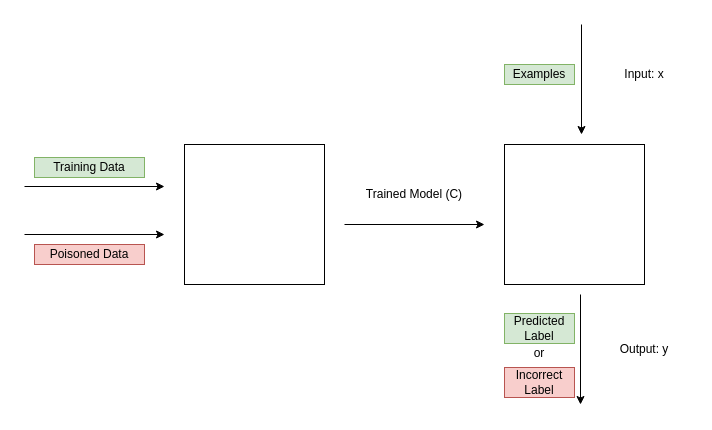
The diagram is 712 pixels wide and 430 high, and some of its shapes have lost their labels. The shapes that lost their labels are listed below. From the top down, each one's centre as x and y in pixels, then its label:
the point at 254,214: Algorithm
the point at 574,214: Prediction using C
